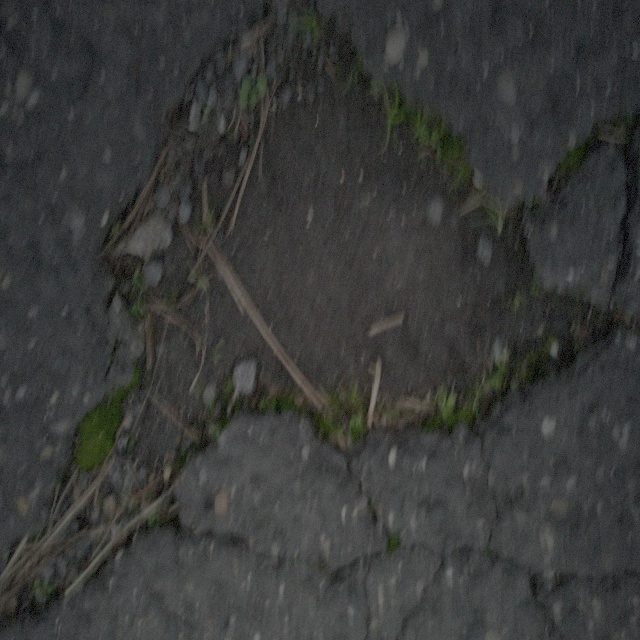pothole: (104, 9, 615, 499)
